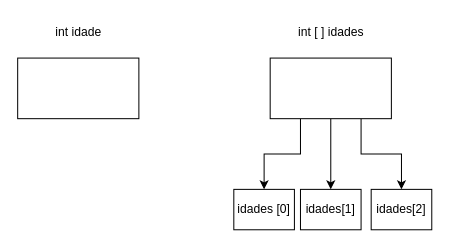
This 449x247 diagram has some shape labels left out. The shapes that lost their labels are listed below. From the top down, each one's centre as x and y in pixels, then its label:
pixel 78 88: variavel
pixel 330 88: array
